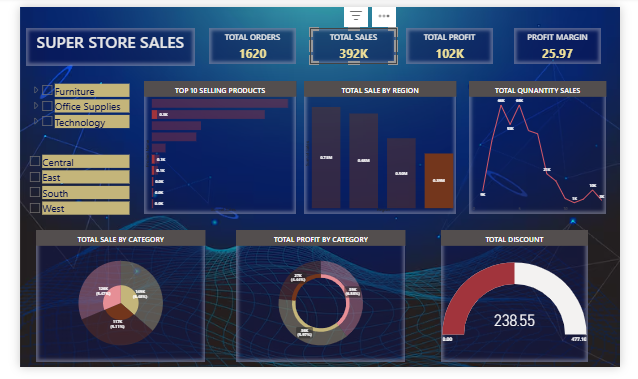

The dashboard page shown, as its layout file describes it:
{"tool":"powerbi","page":{"name":"Page 1","canvas":[2000,1200],"ordinal":0},"visuals":[{"type":"card","title":"TOTAL SALES","fields":{"Values":["Sample - Superstore.Total_sale"]},"box":[965,70,290,120],"z":0},{"type":"card","title":"TOTAL PROFIT","fields":{"Values":["Sample - Superstore.TOTALPROFIT"]},"box":[1285,70,290,120],"z":1000},{"type":"card","title":"TOTAL ORDERS","fields":{"Values":["Sample - Superstore.TOTAL ORDERS"]},"box":[630,70,290,120],"z":2000},{"type":"columnChart","title":"TOTAL SALE BY REGION","fields":{"Y":["Sum(Sample - Superstore. Sales )"],"Category":["Sample - Superstore.Region"]},"box":[945,245,507.5,442.5],"z":3000},{"type":"pieChart","title":"TOTAL SALE BY CATEGORY","fields":{"Category":["Sample - Superstore.Category"],"Y":["Sum(Sample - Superstore. Sales )"]},"box":[52.5,742.5,565,440],"z":4000},{"type":"lineChart","title":"TOTAL QUNANTITY SALES","fields":{"Category":["Sample - Superstore.Quantity"],"Y":["Sum(Sample - Superstore. Sales )"]},"box":[1497.5,245,457.5,442.5],"z":5000},{"type":"slicer","fields":{"Values":["Sample - Superstore.Region"]},"box":[20,482.5,350,232.5],"z":6000},{"type":"textbox","title":"SUPER STORE SALES","box":[20,70,562.5,125],"z":7000},{"type":"barChart","title":"TOP 10 SELLING PRODUCTS","fields":{"Category":["Sample - Superstore.Product Name"],"Y":["Sum(Sample - Superstore. Sales )"]},"box":[412.5,245,507.5,442.5],"z":8000},{"type":"donutChart","title":"TOTAL PROFIT BY CATEGORY","fields":{"Category":["Sample - Superstore.Category"],"Y":["Sum(Sample - Superstore.Profit)"]},"box":[720,742.5,565,440],"z":9000},{"type":"slicer","fields":{"Values":["Sample - Superstore.Category","Sample - Superstore.Sub-Category"]},"box":[20,245,350,287.5],"z":10000},{"type":"gauge","title":"TOTAL DISCOUNT","fields":{"Y":["Sum(Sample - Superstore.Discount)"]},"box":[1402.5,742.5,490,440],"z":11000},{"type":"card","title":"PROFIT MARGIN","fields":{"Values":["Sample - Superstore.PROFIT MARGIN"]},"box":[1647.5,70,290,120],"z":12000}]}

Visuals, with their boxes in screenshot pixels (x1, y1, x2, y2), scaled from the page's 2000x1200 canvas onto the 638x379 screenshot:
"TOTAL SALES" card: box=[308, 22, 400, 60]
"TOTAL PROFIT" card: box=[410, 22, 502, 60]
"TOTAL ORDERS" card: box=[201, 22, 293, 60]
"TOTAL SALE BY REGION" columnChart: box=[301, 77, 463, 217]
"TOTAL SALE BY CATEGORY" pieChart: box=[17, 235, 197, 373]
"TOTAL QUNANTITY SALES" lineChart: box=[478, 77, 624, 217]
slicer - Sample - Superstore.Region: box=[6, 152, 118, 226]
"SUPER STORE SALES" textbox: box=[6, 22, 186, 62]
"TOP 10 SELLING PRODUCTS" barChart: box=[132, 77, 293, 217]
"TOTAL PROFIT BY CATEGORY" donutChart: box=[230, 235, 410, 373]
slicer - Sample - Superstore.Category x Sample - Superstore.Sub-Category: box=[6, 77, 118, 168]
"TOTAL DISCOUNT" gauge: box=[447, 235, 604, 373]
"PROFIT MARGIN" card: box=[526, 22, 618, 60]
